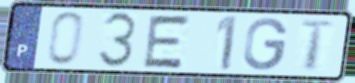0: (45, 9, 90, 68)
1: (213, 13, 238, 73)
3: (95, 10, 139, 71)
E: (139, 13, 194, 71)
G: (242, 16, 291, 73)
T: (298, 18, 338, 73)
